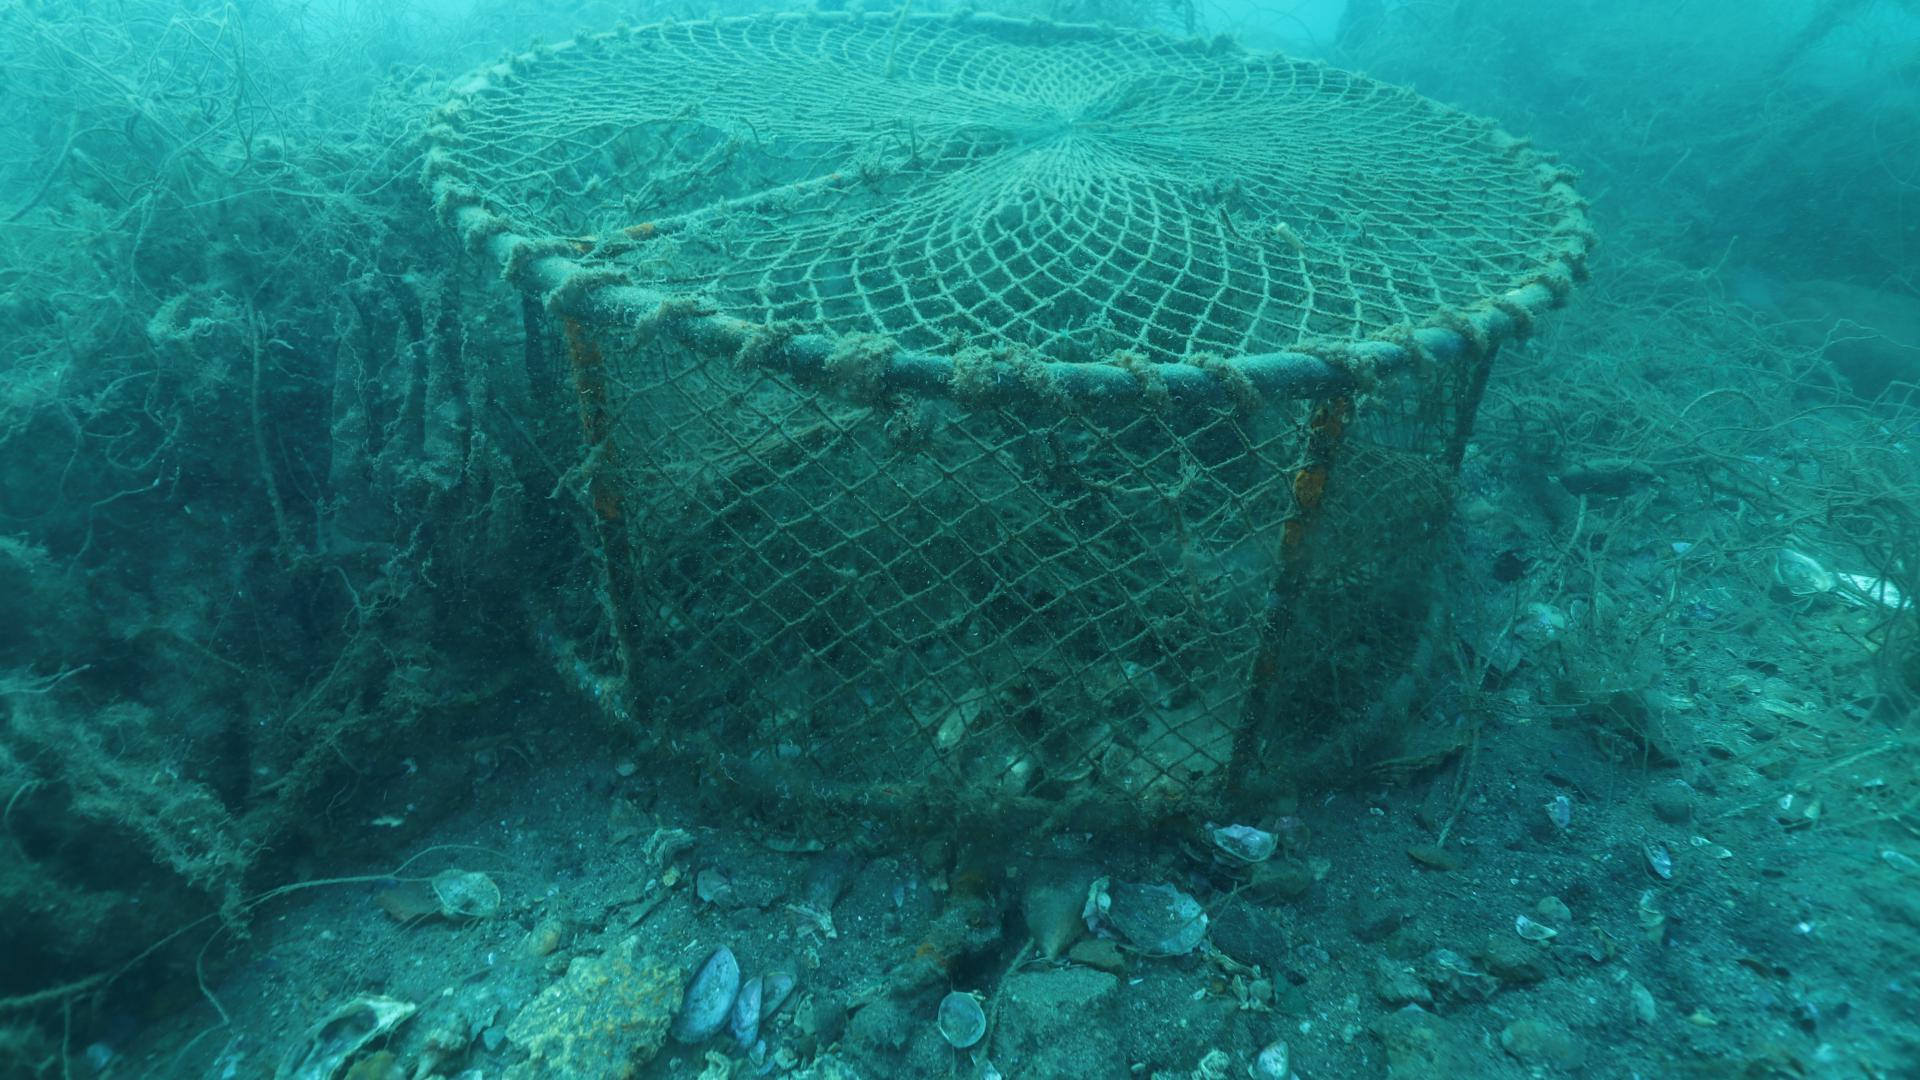circular fish trap: (415, 3, 1598, 837)
